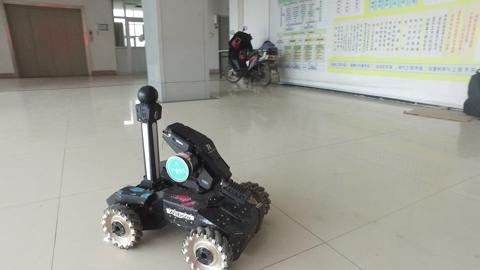bag: (459, 66, 480, 119)
chariot: (85, 81, 278, 270)
